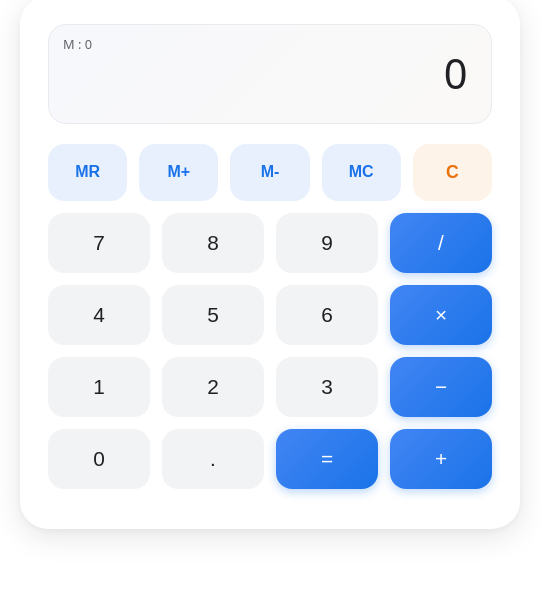
Test case: Calculator › shows error message on API failure
Step 1. Click the button "5" → click(213, 315), box [162, 285, 264, 345]
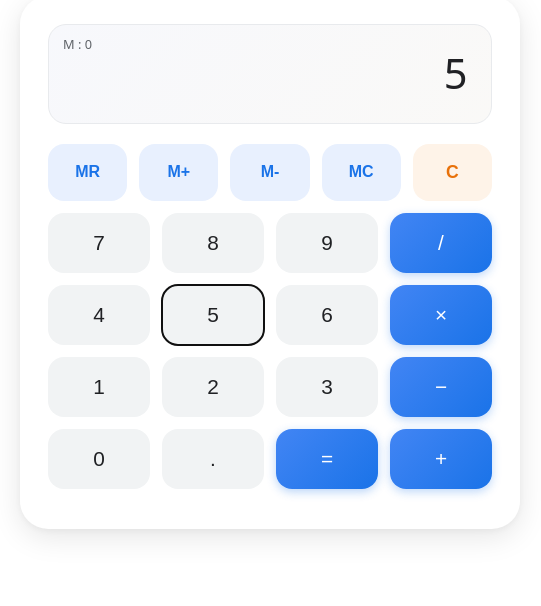
Step 2. Click the button named "add" → click(441, 459), box [390, 429, 492, 489]
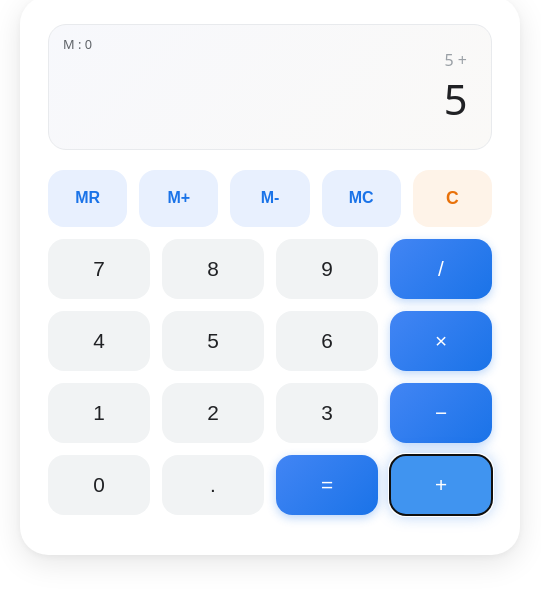
Step 3. Click the button "3" → click(327, 413), box [276, 383, 378, 443]
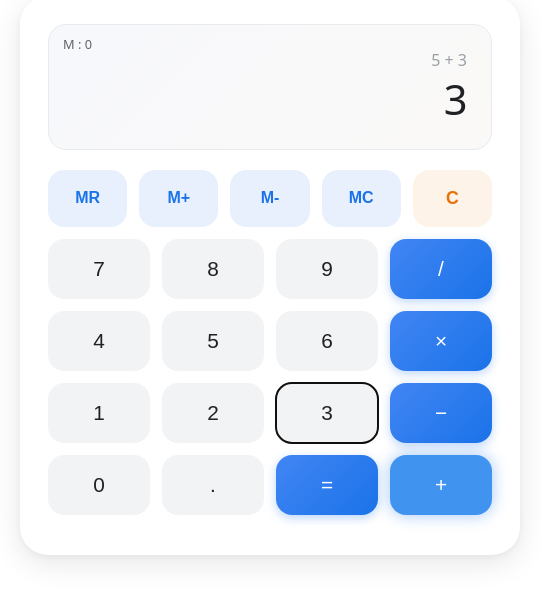
Step 4. Click the button named "equals" → click(327, 485), box [276, 455, 378, 515]
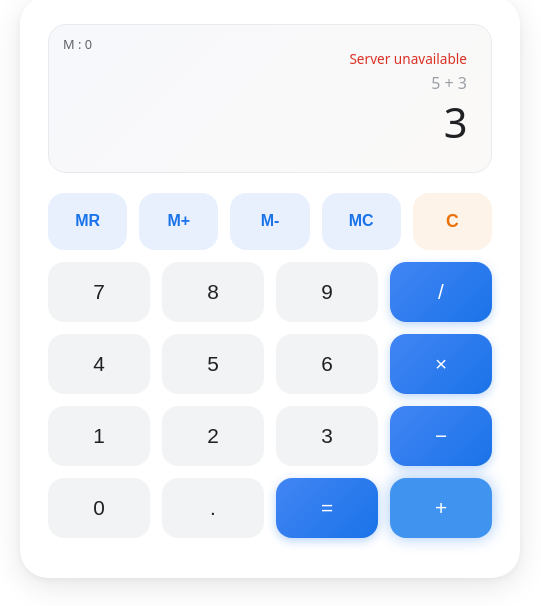
Expected: the text "Server unavailable" is shown, [349, 49, 467, 68]
